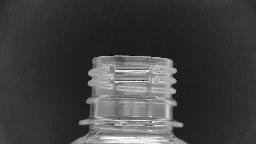No Cap: (72, 50, 188, 132)
